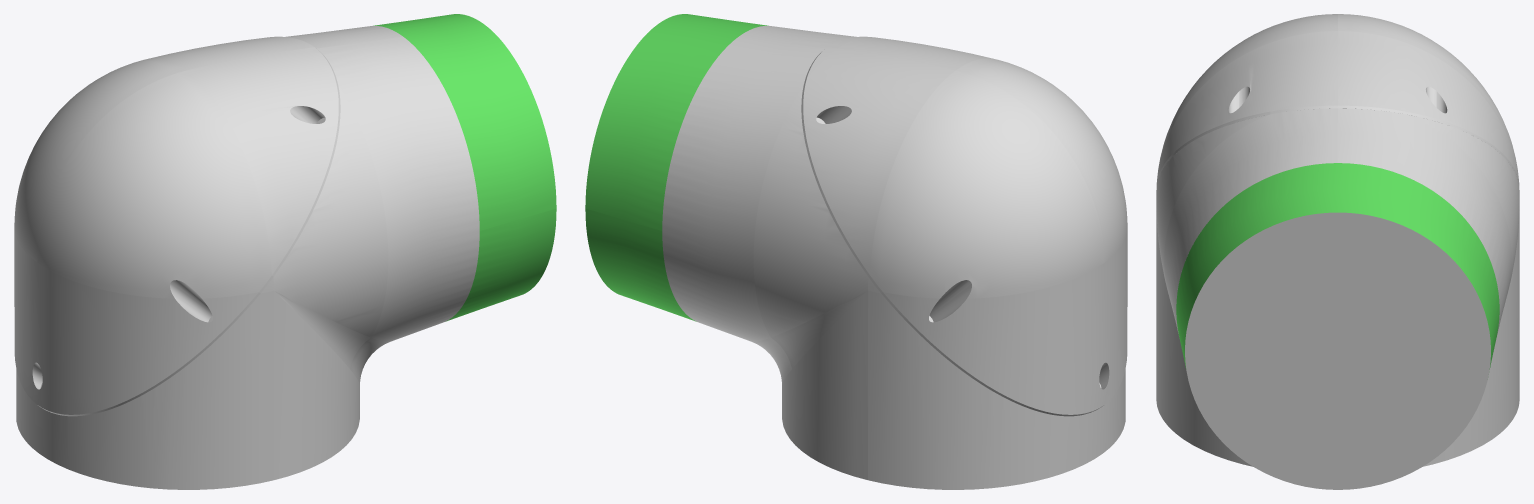
The picture shows the model from 3 angles, left to right: view 1: azimuth 30°, elevation 25°; view 2: azimuth 150°, elevation 25°; view 3: azimuth 270°, elevation 25°; orthographic projection. The views are drawn at different scales.
Visible parts, largest first — view 1: Mesh_0.020; view 2: Mesh_0.020; view 3: Mesh_0.020.
Part boxes in pixels (box(x1,y1,x2,y2)): Mesh_0.020: box(14, 14, 556, 489); Mesh_0.020: box(585, 14, 1127, 489); Mesh_0.020: box(1156, 14, 1519, 489).
Size of the model in its own units: 0.2761 by 0.2051 by 0.184.
